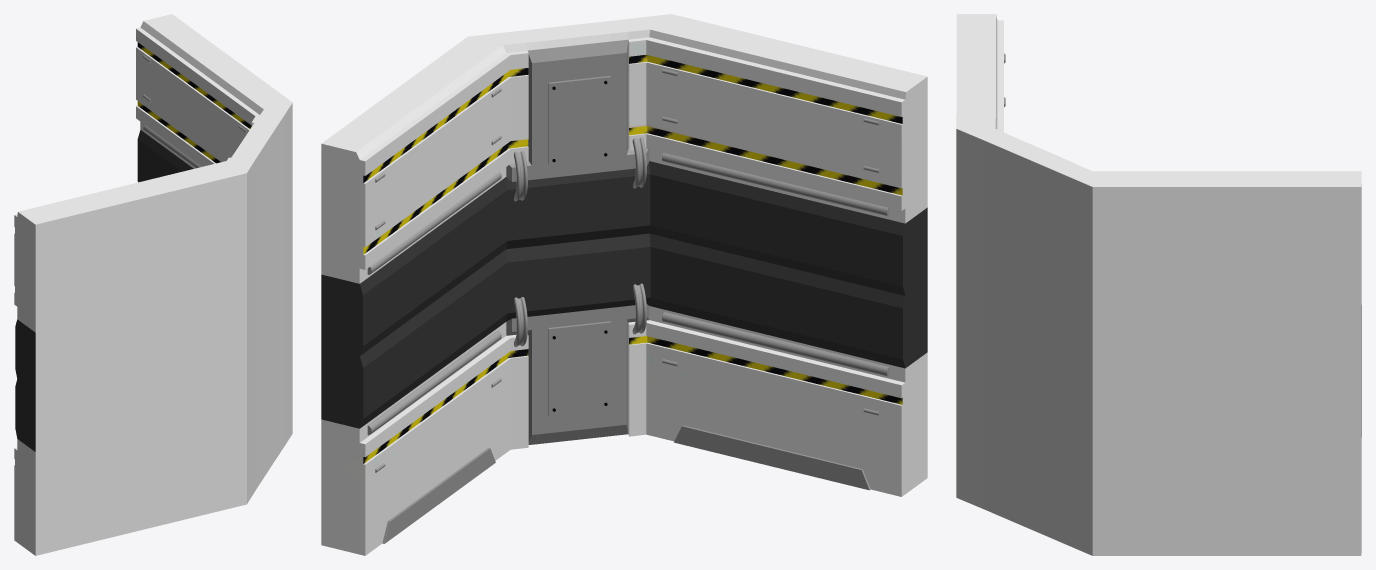
Rendered from F_Wall_01.fbx.
3 views of the same model, side by side, from view 1: azimuth 30°, elevation 25°; view 2: azimuth 150°, elevation 25°; view 3: azimuth 270°, elevation 25° (orthographic). The views are drawn at different scales.
Parts seen in each view (by area): view 1: F_Wall_01; view 2: F_Wall_01; view 3: F_Wall_01.
Part boxes in pixels (box(x1,y1,x2,y2)): F_Wall_01: box(14, 14, 292, 555); F_Wall_01: box(321, 14, 927, 555); F_Wall_01: box(956, 14, 1361, 555).
Size of the model in its own units: 301 by 300 by 298.
1 material, 1 textured.
